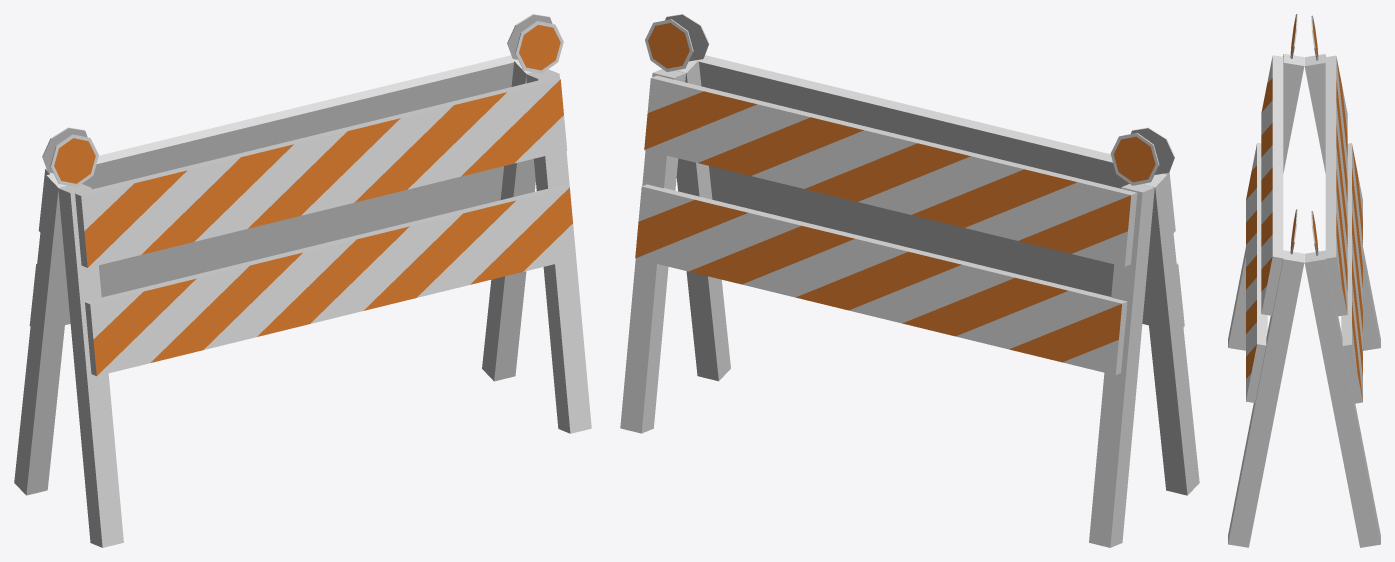
File: construction_block_with_lights.fbx
The picture shows the model from 3 angles, left to right: view 1: azimuth 30°, elevation 25°; view 2: azimuth 150°, elevation 25°; view 3: azimuth 270°, elevation 25°; orthographic projection. The views are drawn at different scales.
Parts seen in each view (by area): view 1: construction roadblock two lines large; view 2: construction roadblock two lines large; view 3: construction roadblock two lines large.
Part boxes in pixels (<box>): construction roadblock two lines large: <box>14,14,591,547</box>; construction roadblock two lines large: <box>620,14,1199,547</box>; construction roadblock two lines large: <box>1228,14,1380,547</box>.
Size of the model in its own units: 451 by 321 by 134.
